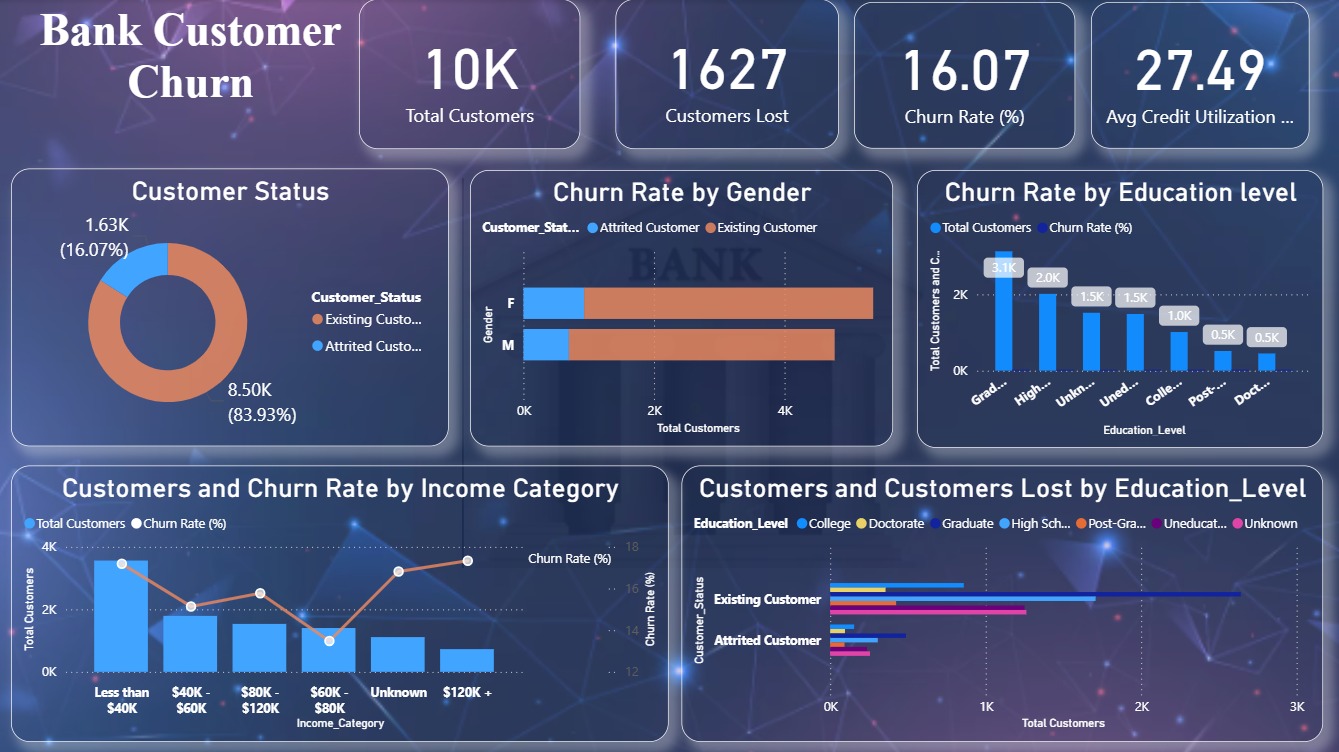

This screenshot's page, from the dashboard's own definition file:
{"tool":"powerbi","page":{"name":"Page 1","canvas":[1280,720],"ordinal":0},"visuals":[{"type":"textbox","box":[0,0,365.8,143.2],"z":0},{"type":"card","fields":{"Values":["Bank_churn_data.Total Customers"]},"box":[343.6,0,211.6,143.2],"z":1000},{"type":"card","fields":{"Values":["Bank_churn_data.Customers Lost"]},"box":[588.5,0,213.1,143.2],"z":2000},{"type":"card","fields":{"Values":["Bank_churn_data.Churn Rate (%)"]},"box":[816,3.2,211.6,140],"z":3000},{"type":"card","fields":{"Values":["Bank_churn_data.Avg Credit Utilization (%)"]},"box":[1043.4,3.2,208.4,140],"z":4000},{"type":"donutChart","title":"Customer Status","fields":{"Y":["Bank_churn_data.Total Customers"],"Category":["Bank_churn_data.Customer_Status"]},"box":[11.1,162.2,418.3,265.6],"z":5000},{"type":"barChart","title":"Churn Rate by Gender","fields":{"Category":["Bank_churn_data.Gender"],"Series":["Bank_churn_data.Customer_Status"],"Y":["Bank_churn_data.Total Customers"]},"box":[450.1,163.8,404,264],"z":6000},{"type":"lineClusteredColumnComboChart","title":"Churn Rate by Education level","fields":{"Y":["Bank_churn_data.Total Customers","Bank_churn_data.Churn Rate (%)"],"Category":["Bank_churn_data.Education_Level"]},"box":[876.4,163.8,388.1,265.6],"z":7000},{"type":"lineStackedColumnComboChart","title":"Customers and Churn Rate by Income Category","fields":{"Category":["Bank_churn_data. Income_Category "],"Y2":["Bank_churn_data.Churn Rate (%)"],"Y":["Bank_churn_data.Total Customers"]},"box":[11.1,445.4,628.3,264],"z":8000},{"type":"clusteredBarChart","title":" Customers and Customers Lost by Education_Level","fields":{"Category":["Bank_churn_data.Customer_Status"],"Series":["Bank_churn_data.Education_Level"],"Y":["Bank_churn_data.Total Customers"]},"box":[652.2,445.4,612.4,264],"z":9000}]}

Visuals, with their boxes in screenshot pixels (x1, y1, x2, y2), scaled from the page's 1280x720 canvas onto the 1339x752 screenshot:
textbox: left=0, top=0, right=383, bottom=150
card - Bank_churn_data.Total Customers: left=359, top=0, right=581, bottom=150
card - Bank_churn_data.Customers Lost: left=616, top=0, right=839, bottom=150
card - Bank_churn_data.Churn Rate (%): left=854, top=3, right=1075, bottom=150
card - Bank_churn_data.Avg Credit Utilization (%): left=1091, top=3, right=1310, bottom=150
"Customer Status" donutChart: left=12, top=169, right=449, bottom=447
"Churn Rate by Gender" barChart: left=471, top=171, right=893, bottom=447
"Churn Rate by Education level" lineClusteredColumnComboChart: left=917, top=171, right=1323, bottom=448
"Customers and Churn Rate by Income Category" lineStackedColumnComboChart: left=12, top=465, right=669, bottom=741
" Customers and Customers Lost by Education_Level" clusteredBarChart: left=682, top=465, right=1323, bottom=741
